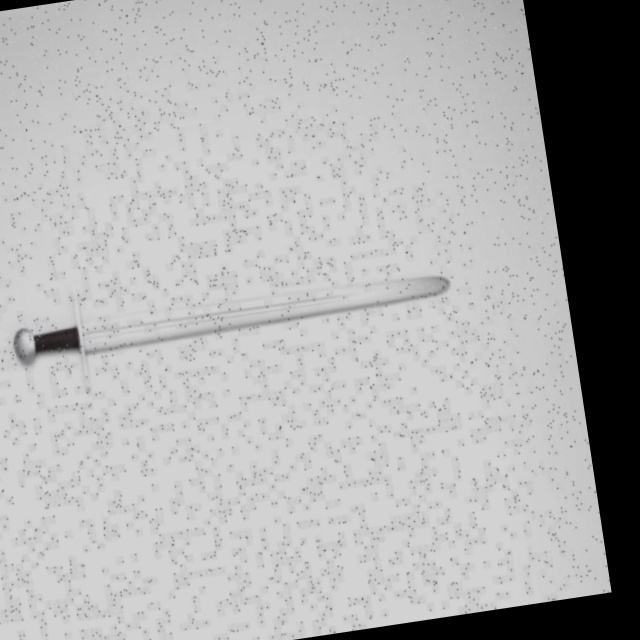Sharp-Object: (8, 262, 455, 367)
